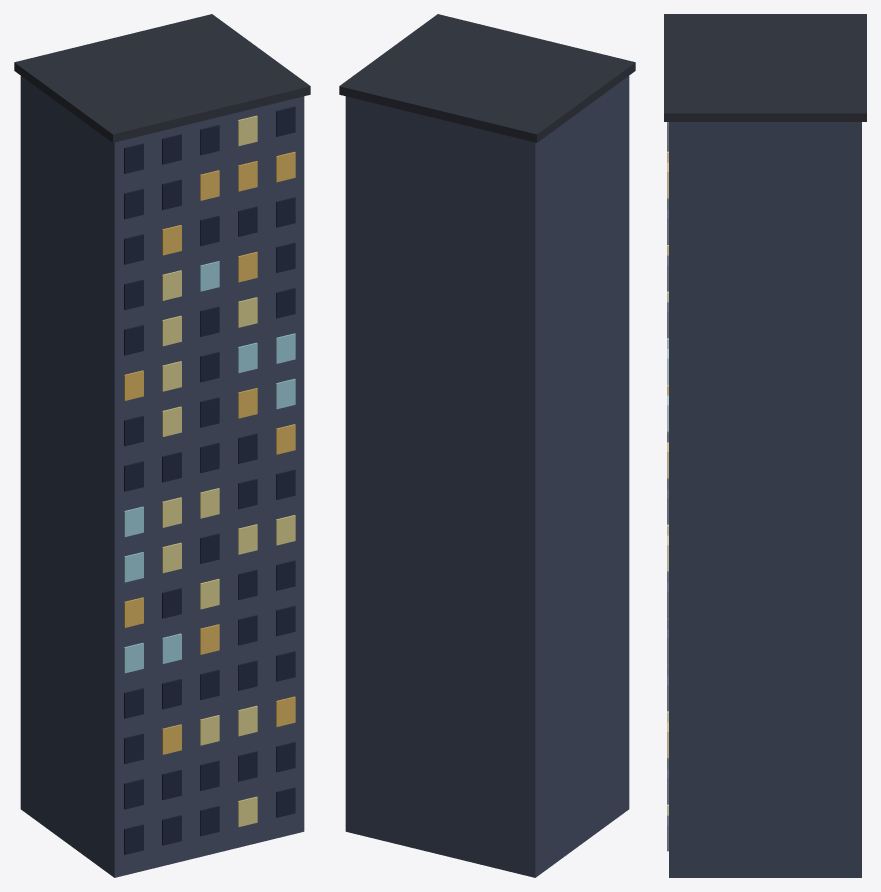
File: city_block_2.glb
The picture shows the model from 3 angles, left to right: view 1: azimuth 30°, elevation 25°; view 2: azimuth 150°, elevation 25°; view 3: azimuth 270°, elevation 25°; orthographic projection. The views are drawn at different scales.
Parts seen in each view (by area): view 1: CityBlock; view 2: CityBlock; view 3: CityBlock.
Boxes of the visible parts, x1,y1,x2,y2 form: CityBlock: (14, 14, 310, 877); CityBlock: (339, 14, 635, 877); CityBlock: (664, 14, 866, 877).
Bounding box in the file's own units: 7.3 × 26.3 × 6.3.
